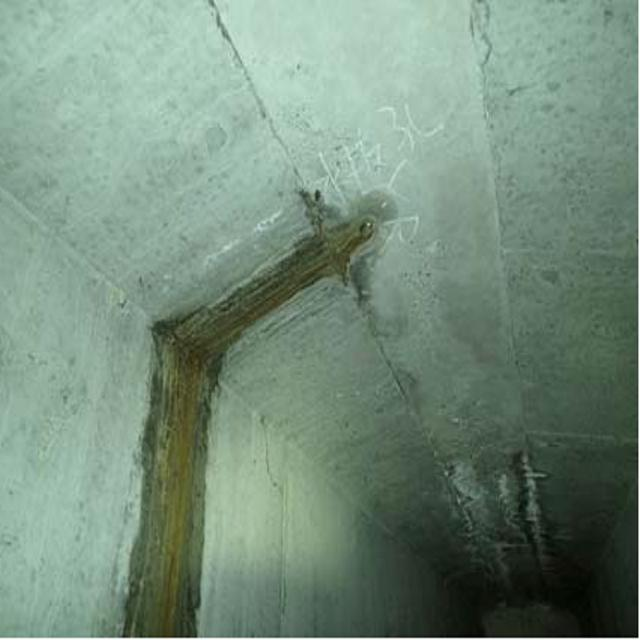freelime: (444, 446, 560, 604)
leakage: (128, 128, 367, 640)
